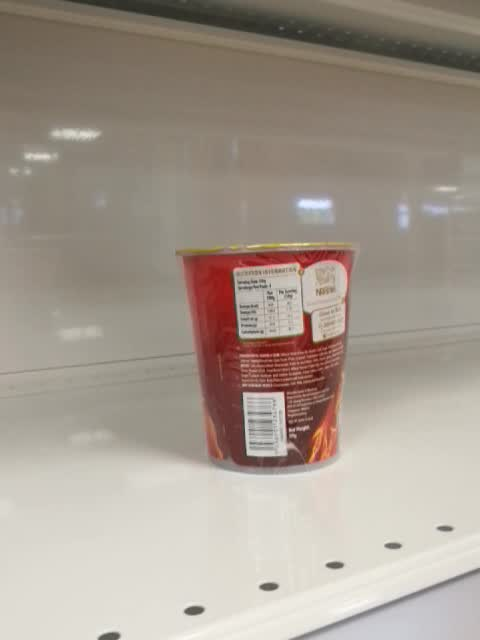maggi: (173, 242, 360, 475)
